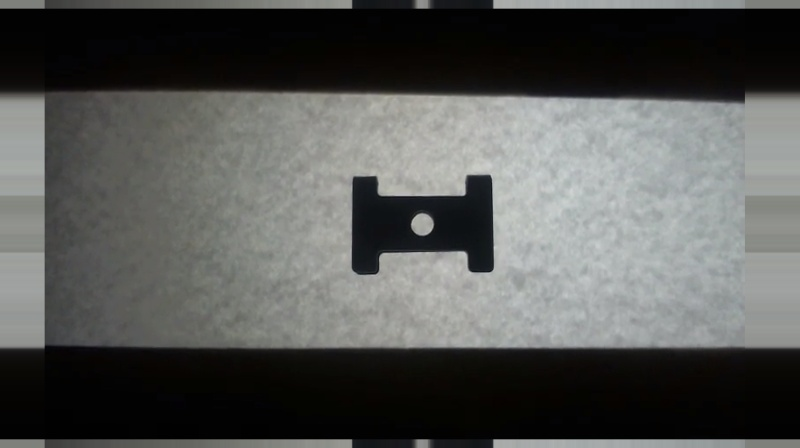O002: (348, 172, 499, 277)
